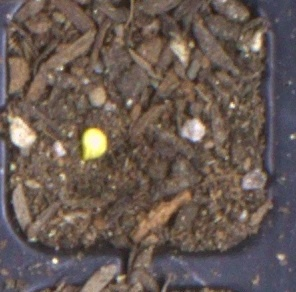chilli seed: (81, 127, 108, 161)
